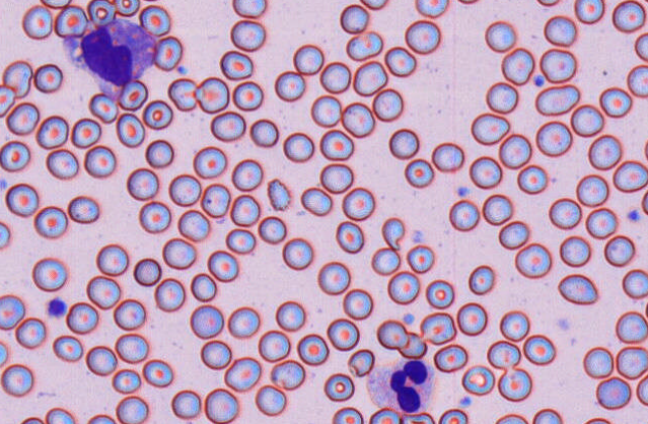GRAN: (367, 359, 438, 414)
MONO: (61, 18, 161, 93)
PLT: (46, 297, 68, 318), (456, 185, 471, 198), (533, 73, 546, 87), (628, 209, 641, 222)
RBC: (535, 84, 579, 115), (514, 242, 551, 278), (535, 120, 572, 156), (539, 47, 576, 83), (223, 356, 261, 391), (470, 112, 509, 145), (404, 19, 440, 54), (352, 60, 387, 96), (195, 76, 229, 113), (501, 47, 534, 85), (557, 273, 597, 304), (587, 134, 621, 170), (419, 311, 456, 344), (189, 304, 224, 338), (204, 388, 238, 423), (498, 133, 531, 169), (595, 376, 631, 409), (341, 101, 374, 137), (5, 101, 39, 135), (497, 367, 531, 401), (86, 275, 120, 309), (32, 257, 66, 291), (612, 159, 647, 192), (5, 182, 38, 217), (317, 261, 350, 295), (570, 104, 604, 137), (33, 205, 67, 238), (341, 186, 374, 220), (230, 19, 265, 51), (168, 173, 201, 206), (257, 329, 290, 362), (469, 155, 502, 188), (65, 301, 98, 334), (0, 363, 33, 396), (83, 145, 116, 178), (576, 173, 609, 206), (193, 145, 226, 178), (615, 345, 647, 379), (387, 270, 419, 304), (548, 197, 582, 229), (162, 237, 196, 269), (36, 115, 68, 149), (270, 359, 305, 390), (210, 110, 245, 141), (296, 333, 329, 365), (54, 5, 87, 37), (326, 318, 359, 350), (615, 310, 647, 343), (126, 167, 158, 200), (485, 81, 518, 113), (612, 0, 645, 32), (138, 200, 170, 233), (231, 158, 263, 191), (96, 243, 128, 276), (461, 364, 495, 395), (319, 162, 353, 193), (154, 277, 185, 311), (456, 302, 487, 336), (319, 129, 353, 160), (115, 112, 145, 147), (22, 4, 52, 39), (484, 20, 516, 52), (254, 384, 286, 416), (177, 209, 209, 241), (585, 207, 617, 239), (227, 306, 259, 338), (319, 61, 351, 93), (113, 298, 145, 330), (138, 4, 170, 36), (45, 148, 78, 179), (522, 334, 555, 365), (310, 94, 341, 127), (543, 15, 576, 46), (207, 249, 238, 282), (372, 88, 403, 121), (431, 141, 464, 172), (599, 86, 632, 117), (200, 183, 230, 217), (486, 339, 520, 369), (114, 333, 148, 363), (153, 35, 182, 70), (15, 316, 46, 348), (85, 345, 117, 376), (582, 346, 613, 378), (559, 235, 590, 267), (448, 199, 479, 231), (604, 234, 635, 266), (282, 237, 312, 270), (219, 50, 252, 80), (433, 343, 467, 372), (168, 77, 197, 111), (70, 117, 101, 148), (274, 70, 305, 101), (388, 128, 419, 159), (283, 131, 314, 162), (232, 80, 263, 111), (376, 319, 408, 349), (300, 186, 332, 216), (230, 194, 260, 226), (482, 193, 512, 225), (384, 46, 416, 76), (88, 92, 118, 123), (200, 339, 231, 369), (170, 389, 201, 419), (499, 310, 529, 341), (516, 164, 547, 194), (275, 300, 305, 331), (0, 140, 30, 171), (342, 288, 372, 319), (293, 44, 323, 75), (335, 220, 363, 253), (115, 395, 148, 423), (404, 158, 434, 188), (142, 99, 172, 129), (323, 372, 354, 401), (498, 220, 529, 249), (142, 358, 173, 387), (118, 79, 147, 110), (67, 195, 99, 223), (0, 294, 25, 329), (339, 3, 368, 33), (33, 63, 62, 93), (52, 334, 83, 362), (371, 246, 400, 275), (425, 279, 454, 308), (249, 118, 278, 147), (397, 331, 426, 359), (133, 257, 161, 286), (257, 215, 286, 243), (406, 244, 434, 273), (225, 227, 255, 254), (468, 264, 494, 295), (145, 139, 173, 167), (622, 268, 647, 299), (266, 178, 290, 210), (190, 272, 216, 301), (111, 368, 141, 393), (574, 0, 604, 24), (87, 0, 115, 25), (627, 64, 647, 97), (232, 0, 266, 18), (415, 0, 448, 17), (331, 406, 363, 423), (369, 407, 400, 423), (0, 85, 15, 117), (45, 407, 75, 423), (438, 408, 468, 423), (532, 408, 562, 423), (400, 411, 434, 423), (114, 0, 139, 16), (634, 32, 647, 61), (636, 374, 647, 406), (494, 413, 528, 423), (87, 413, 116, 423), (0, 221, 10, 248), (360, 0, 388, 9), (40, 0, 71, 8), (0, 340, 7, 366), (582, 417, 611, 423), (20, 416, 44, 423), (641, 189, 647, 215), (536, 0, 560, 6), (643, 138, 648, 160), (457, 0, 479, 4), (644, 300, 648, 319), (141, 0, 163, 2)
Schistocyte: (3, 59, 32, 99), (346, 31, 383, 62), (382, 217, 406, 251), (347, 349, 375, 377)
